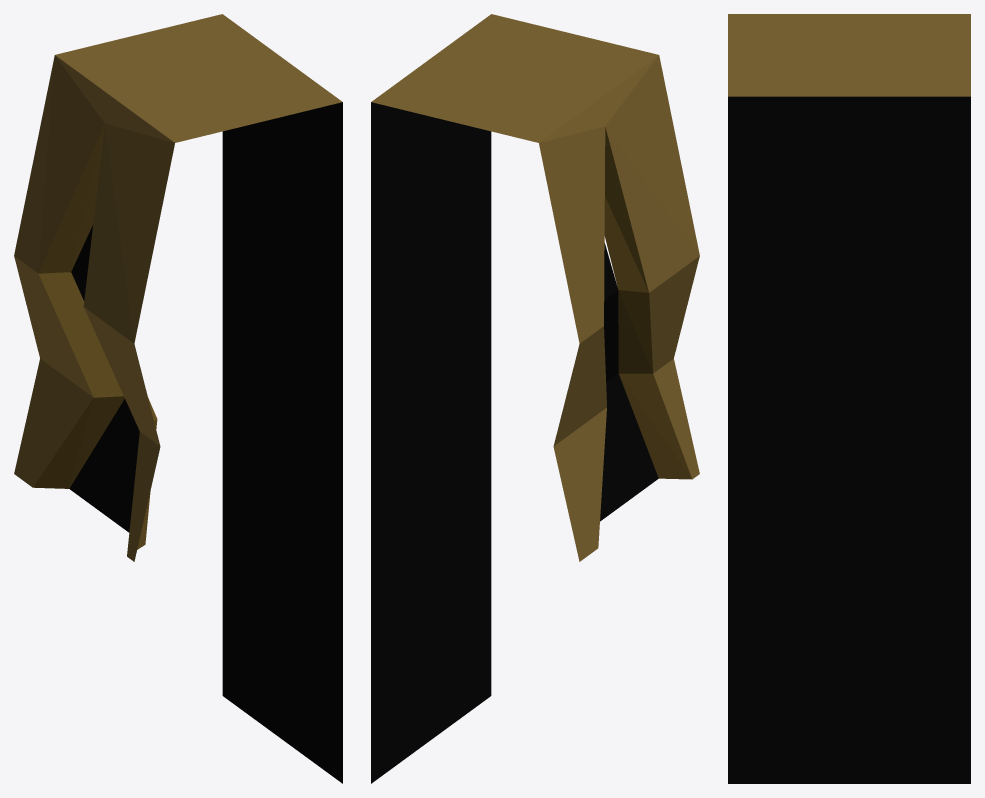
The model's file is obj_crevice_0.obj.
3 views of the same model, side by side, from view 1: azimuth 30°, elevation 25°; view 2: azimuth 150°, elevation 25°; view 3: azimuth 270°, elevation 25° (orthographic).
Size of the model in its own units: 1 by 3.12 by 1.
